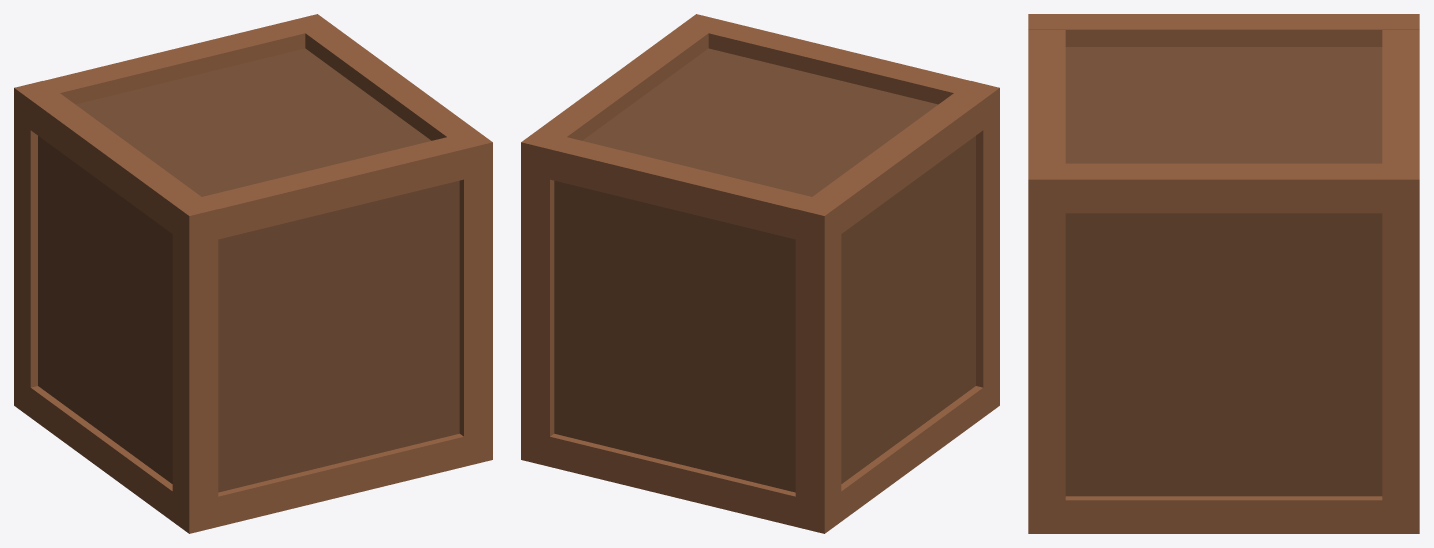
Rendered from Crate.fbx.
The picture shows the model from 3 angles, left to right: view 1: azimuth 30°, elevation 25°; view 2: azimuth 150°, elevation 25°; view 3: azimuth 270°, elevation 25°; orthographic projection. The views are drawn at different scales.
Parts seen in each view (by area): view 1: Cube, Fondation.006, Fondation.002, Fondation.005, Fondation.011, Fondation, Fondation.007, Fondation.009, Fondation.004, Fondation.003, Fondation.008; view 2: Cube, Fondation.007, Fondation.003, Fondation.005, Fondation.010, Fondation.001, Fondation.006, Fondation.004, Fondation.009, Fondation.002, Fondation.008; view 3: Cube, Fondation.004, Fondation.008, Fondation.005, Fondation, Fondation.001, Fondation.006, Fondation.007, Fondation.010.
Part boxes in pixels (<box>): Cube: <box>38,48,459,492</box>; Fondation.006: <box>172,135,492,246</box>; Fondation.002: <box>172,235,218,503</box>; Fondation.005: <box>14,81,218,245</box>; Fondation.011: <box>172,433,479,533</box>; Fondation: <box>459,172,492,436</box>; Fondation.007: <box>14,14,332,129</box>; Fondation.009: <box>14,375,218,533</box>; Fondation.004: <box>289,14,492,147</box>; Fondation.003: <box>14,118,37,387</box>; Fondation.008: <box>469,429,492,464</box>; Cube: <box>554,48,975,492</box>; Fondation.007: <box>521,137,841,246</box>; Fondation.003: <box>795,235,841,503</box>; Fondation.005: <box>795,81,999,246</box>; Fondation.010: <box>521,433,835,533</box>; Fondation.001: <box>521,172,554,436</box>; Fondation.006: <box>682,14,999,129</box>; Fondation.004: <box>521,14,724,179</box>; Fondation.009: <box>795,375,999,533</box>; Fondation.002: <box>976,118,999,387</box>; Fondation.008: <box>521,429,549,466</box>; Cube: <box>1065,47,1382,496</box>; Fondation.004: <box>1028,163,1419,213</box>; Fondation.008: <box>1028,496,1419,533</box>; Fondation.005: <box>1028,14,1419,46</box>; Fondation: <box>1028,213,1065,500</box>; Fondation.001: <box>1382,213,1419,500</box>; Fondation.006: <box>1028,30,1065,213</box>; Fondation.007: <box>1382,30,1419,212</box>; Fondation.010: <box>1382,500,1419,533</box>.
Bounding box in the file's own units: 210 × 210 × 210.
